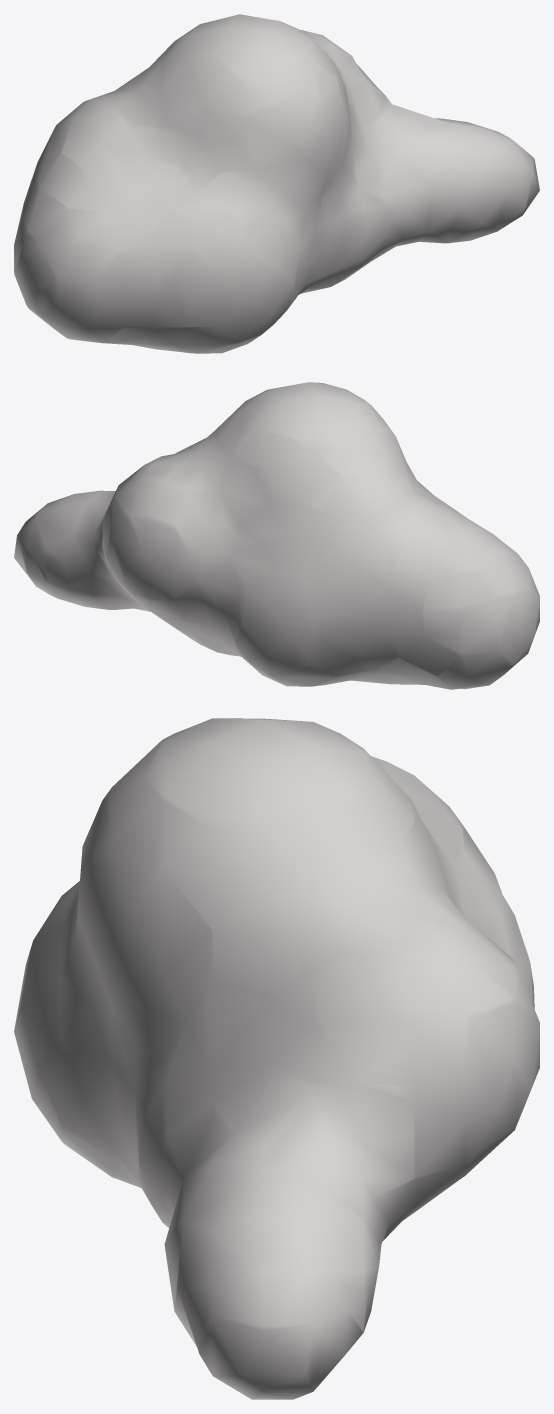
File: SmoothClloud2fbx.fbx
3 views of the same model, one above another, from view 1: azimuth 30°, elevation 25°; view 2: azimuth 150°, elevation 25°; view 3: azimuth 270°, elevation 25° (orthographic). The views are drawn at different scales.
Parts seen in each view (by area): view 1: Mball.002; view 2: Mball.002; view 3: Mball.002.
Part boxes in pixels (x1=…): Mball.002: x1=14, y1=14, x2=539, y2=353; Mball.002: x1=14, y1=382, x2=539, y2=689; Mball.002: x1=14, y1=718, x2=539, y2=1399.
Bounding box in the file's own units: 40669 × 21883 × 20892.
